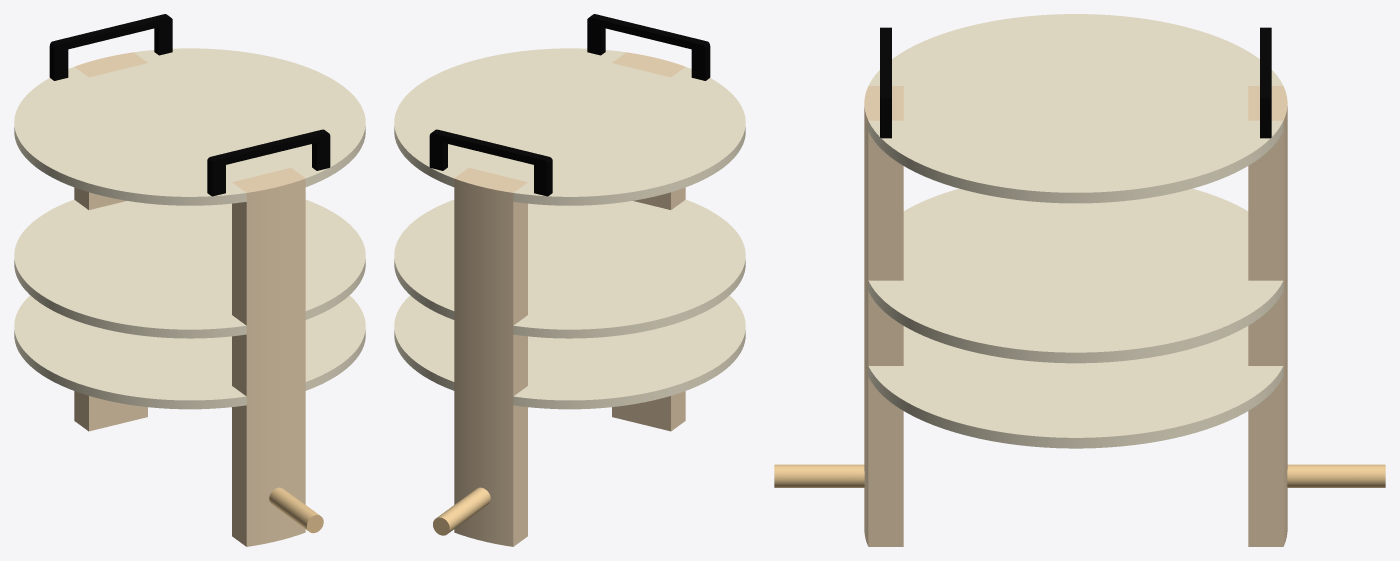
The model's file is peter-rabbit-2-leg.gltf.
3 views of the same model, side by side, from view 1: azimuth 30°, elevation 25°; view 2: azimuth 150°, elevation 25°; view 3: azimuth 270°, elevation 25° (orthographic). The views are drawn at different scales.
Parts seen in each view (by area): view 1: Part 6, Part 7, Part 5, Part 4, Part 11, Part 2, Part 8, Part 9, Part 12, Part 1, Part 10, Part 13; view 2: Part 6, Part 7, Part 5, Part 3, Part 12, Part 1, Part 9, Part 8, Part 11, Part 2, Part 14; view 3: Part 6, Part 7, Part 5, Part 1, Part 2, Part 12, Part 11, Part 14, Part 10, Part 4, Part 3, Part 9 (+1 smaller).
Boxes of the visible parts, <box> form: Part 6: <box>14,48,365,205</box>; Part 7: <box>14,199,365,338</box>; Part 5: <box>14,295,365,409</box>; Part 4: <box>246,178,305,405</box>; Part 11: <box>232,391,305,546</box>; Part 2: <box>232,168,305,396</box>; Part 8: <box>49,14,172,80</box>; Part 9: <box>207,129,330,196</box>; Part 12: <box>74,391,147,431</box>; Part 1: <box>74,52,147,209</box>; Part 10: <box>269,487,323,532</box>; Part 13: <box>269,487,323,533</box>; Part 6: <box>394,48,745,205</box>; Part 7: <box>394,199,745,338</box>; Part 5: <box>394,295,745,409</box>; Part 3: <box>454,178,513,405</box>; Part 12: <box>454,391,527,546</box>; Part 1: <box>454,168,527,396</box>; Part 9: <box>587,14,710,80</box>; Part 8: <box>429,129,552,196</box>; Part 11: <box>612,391,685,431</box>; Part 2: <box>612,52,685,209</box>; Part 14: <box>433,487,490,535</box>; Part 6: <box>868,14,1283,203</box>; Part 7: <box>868,188,1283,363</box>; Part 5: <box>868,326,1283,448</box>; Part 1: <box>1248,86,1283,365</box>; Part 2: <box>868,86,903,365</box>; Part 12: <box>1248,362,1287,546</box>; Part 11: <box>864,362,903,546</box>; Part 14: <box>1287,464,1385,487</box>; Part 10: <box>774,464,864,487</box>; Part 4: <box>864,87,868,375</box>; Part 3: <box>1283,87,1287,375</box>; Part 9: <box>880,27,891,138</box>.
Size of the model in its own units: 0.4572 by 0.5588 by 0.6604.
